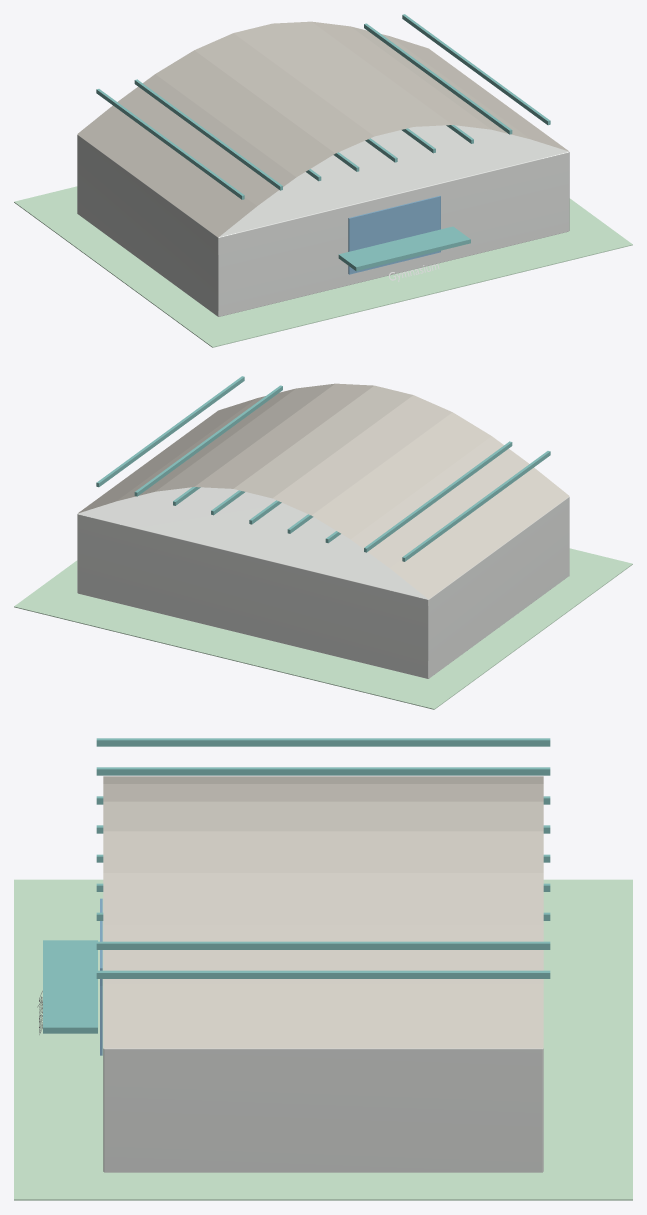
Rendered from gymnasium.glb.
3 views of the same model, one above another, from view 1: azimuth 30°, elevation 25°; view 2: azimuth 150°, elevation 25°; view 3: azimuth 270°, elevation 25° (orthographic). The views are drawn at different scales.
Parts seen in each view (by area): view 1: gymnasium_base, gymnasium_barrel_roof, gymnasium.001_base_tile, gymnasium_front_glass, gymnasium_entry_canopy, gymnasium_roof_rib_15, gymnasium_roof_rib_-20, gymnasium_roof_rib_20, gymnasium_roof_rib_-15; view 2: gymnasium_base, gymnasium_barrel_roof, gymnasium.001_base_tile, gymnasium_roof_rib_15, gymnasium_roof_rib_-20, gymnasium_roof_rib_20, gymnasium_roof_rib_-15; view 3: gymnasium_barrel_roof, gymnasium.001_base_tile, gymnasium_base, gymnasium_entry_canopy, gymnasium_roof_rib_-20, gymnasium_roof_rib_-15, gymnasium_roof_rib_15, gymnasium_roof_rib_20.
Boxes of the visible parts, bbox=[...] form: gymnasium_base: bbox=[77, 125, 569, 316]; gymnasium_barrel_roof: bbox=[77, 21, 568, 237]; gymnasium.001_base_tile: bbox=[14, 186, 632, 347]; gymnasium_front_glass: bbox=[348, 196, 440, 274]; gymnasium_entry_canopy: bbox=[338, 226, 470, 271]; gymnasium_roof_rib_15: bbox=[364, 23, 512, 134]; gymnasium_roof_rib_-20: bbox=[96, 89, 244, 199]; gymnasium_roof_rib_20: bbox=[402, 14, 550, 125]; gymnasium_roof_rib_-15: bbox=[134, 79, 282, 190]; gymnasium_base: bbox=[77, 487, 569, 678]; gymnasium_barrel_roof: bbox=[78, 383, 569, 599]; gymnasium.001_base_tile: bbox=[14, 548, 632, 709]; gymnasium_roof_rib_15: bbox=[134, 385, 282, 496]; gymnasium_roof_rib_-20: bbox=[402, 451, 550, 561]; gymnasium_roof_rib_20: bbox=[96, 376, 244, 487]; gymnasium_roof_rib_-15: bbox=[364, 441, 512, 552]; gymnasium_barrel_roof: bbox=[103, 776, 543, 1048]; gymnasium.001_base_tile: bbox=[14, 879, 632, 1200]; gymnasium_base: bbox=[103, 1048, 543, 1172]; gymnasium_entry_canopy: bbox=[43, 940, 97, 1033]; gymnasium_roof_rib_-20: bbox=[96, 738, 550, 746]; gymnasium_roof_rib_-15: bbox=[96, 767, 550, 775]; gymnasium_roof_rib_15: bbox=[96, 941, 550, 949]; gymnasium_roof_rib_20: bbox=[96, 970, 550, 978].
Bounding box in the file's own units: 55 × 17.99 × 45.
